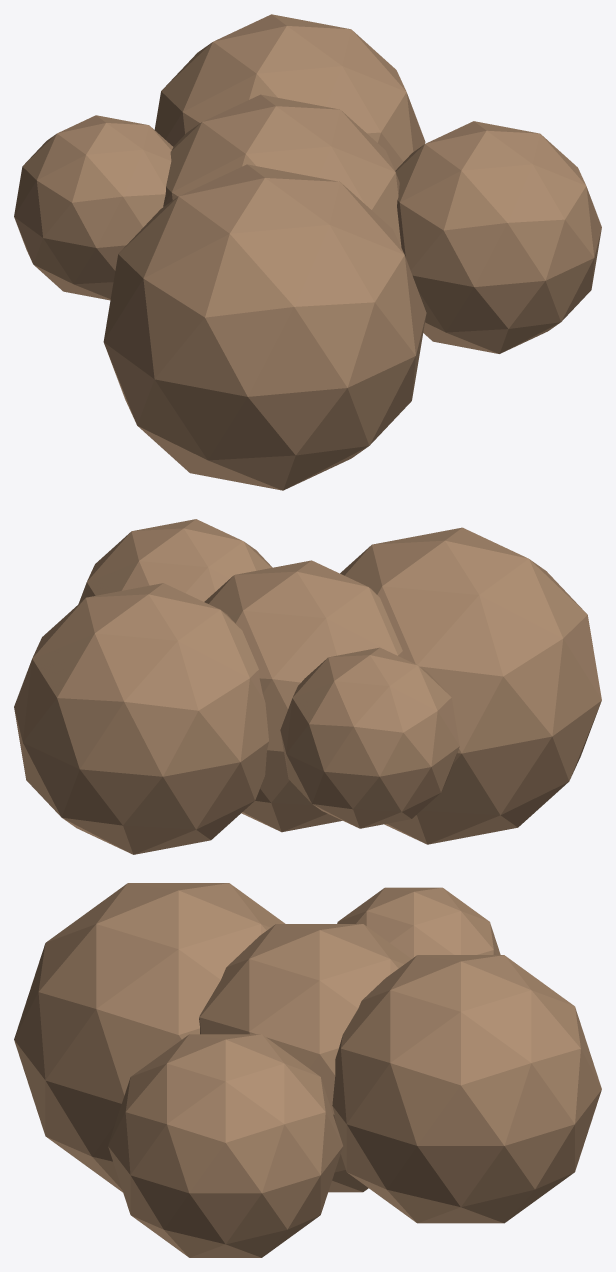
File: Tree_6.glb
3 renders of one model, top to bottom at view 1: azimuth 30°, elevation 25°; view 2: azimuth 150°, elevation 25°; view 3: azimuth 270°, elevation 25°, orthographic. The views are drawn at different scales.
Visible parts, largest first — view 1: Tree_8; view 2: Tree_8; view 3: Tree_8.
Part boxes in pixels (x1,y1,x2,y2): Tree_8: [14, 14, 601, 490]; Tree_8: [14, 519, 601, 854]; Tree_8: [14, 883, 601, 1257].
Bounding box in the file's own units: 1.46 × 0.8972 × 1.56.
